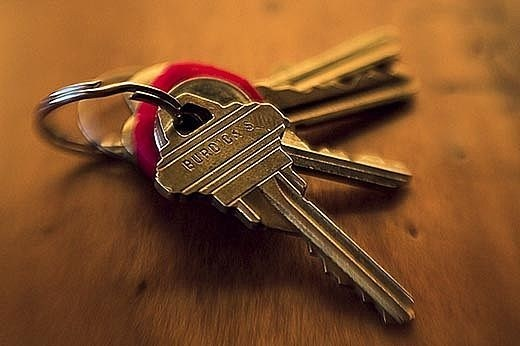key: (158, 103, 378, 301), (278, 122, 414, 197)
